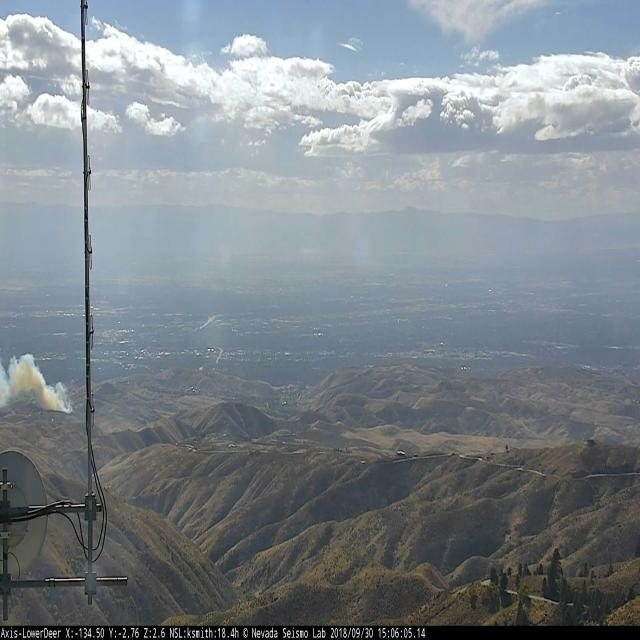smoke: (0, 353, 77, 415)
